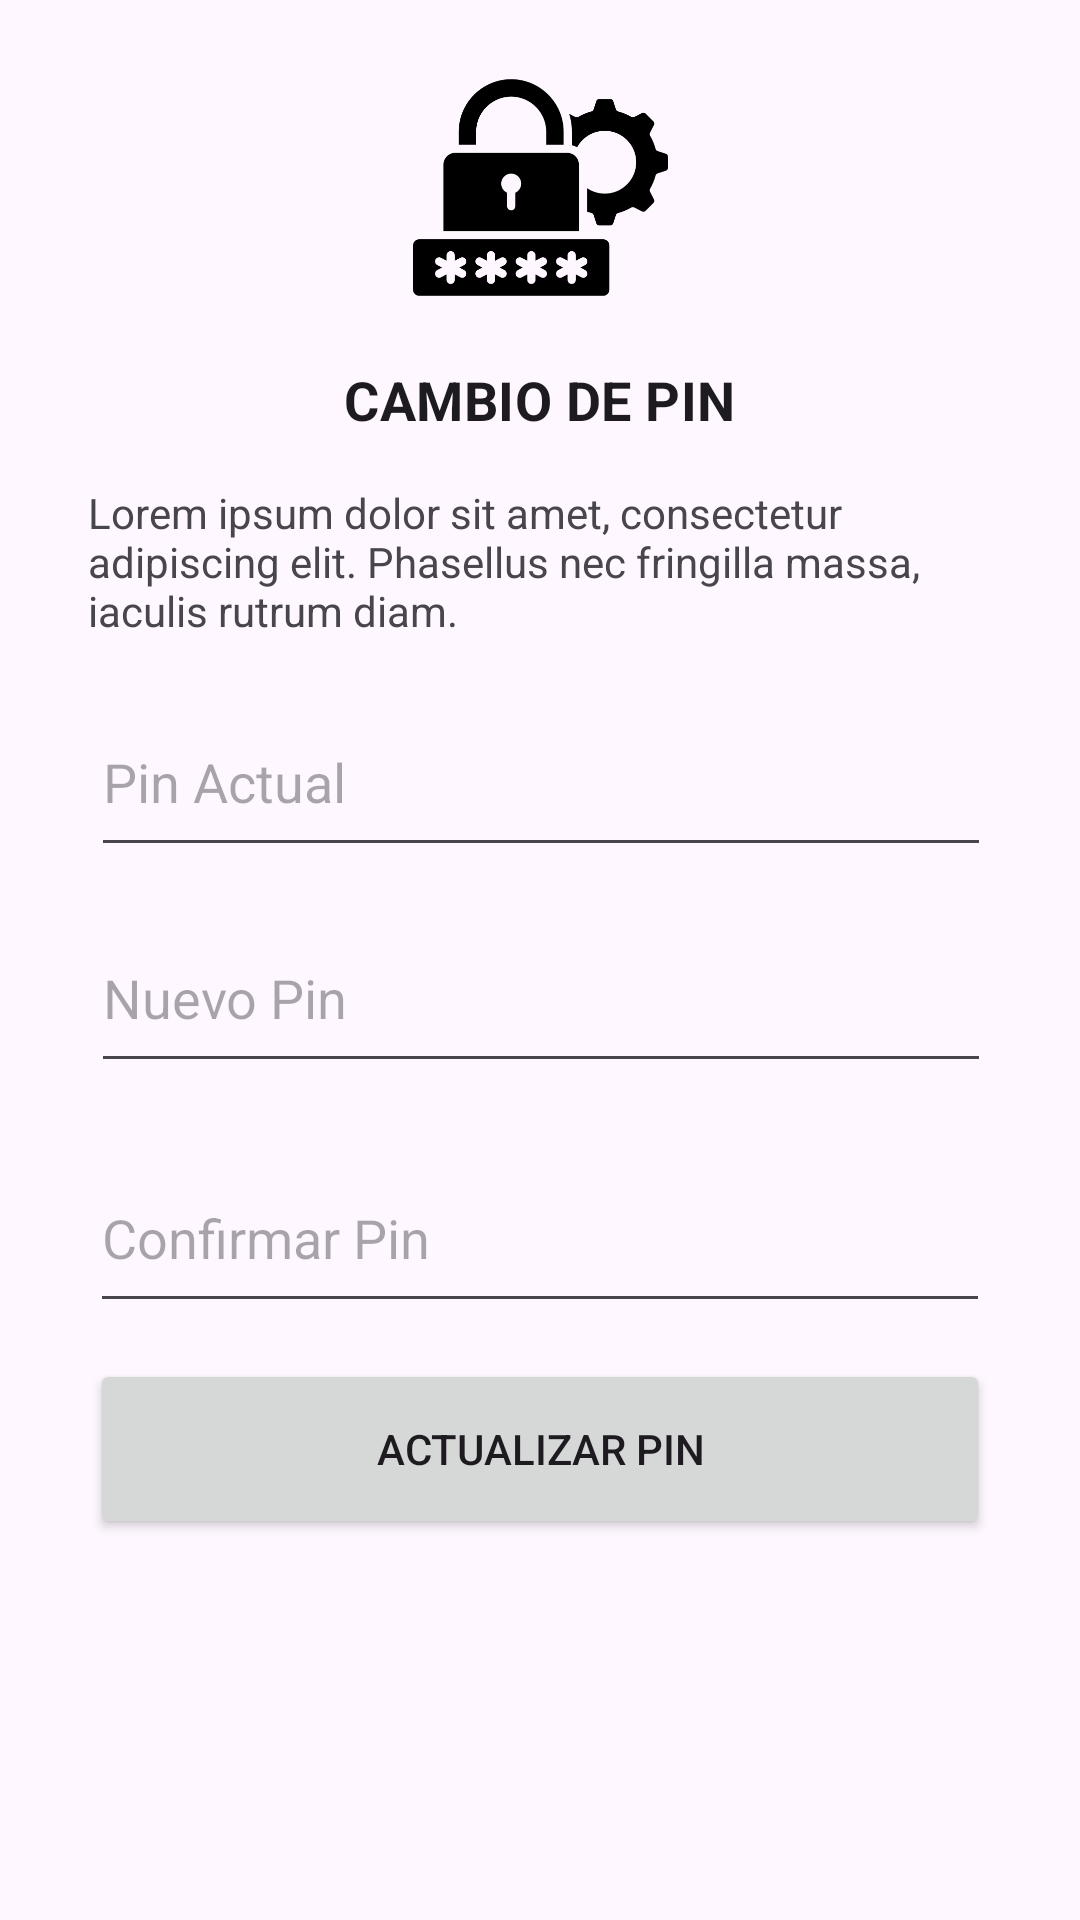

Screen size 1080 x 1920. Icon name, then its box in pixels as (x1,y1,x2,y2):
password manager: (413,79,668,296)
